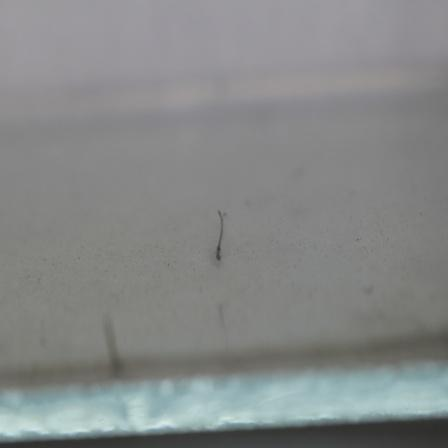Jentik-Nyamuk: (211, 204, 233, 264)
